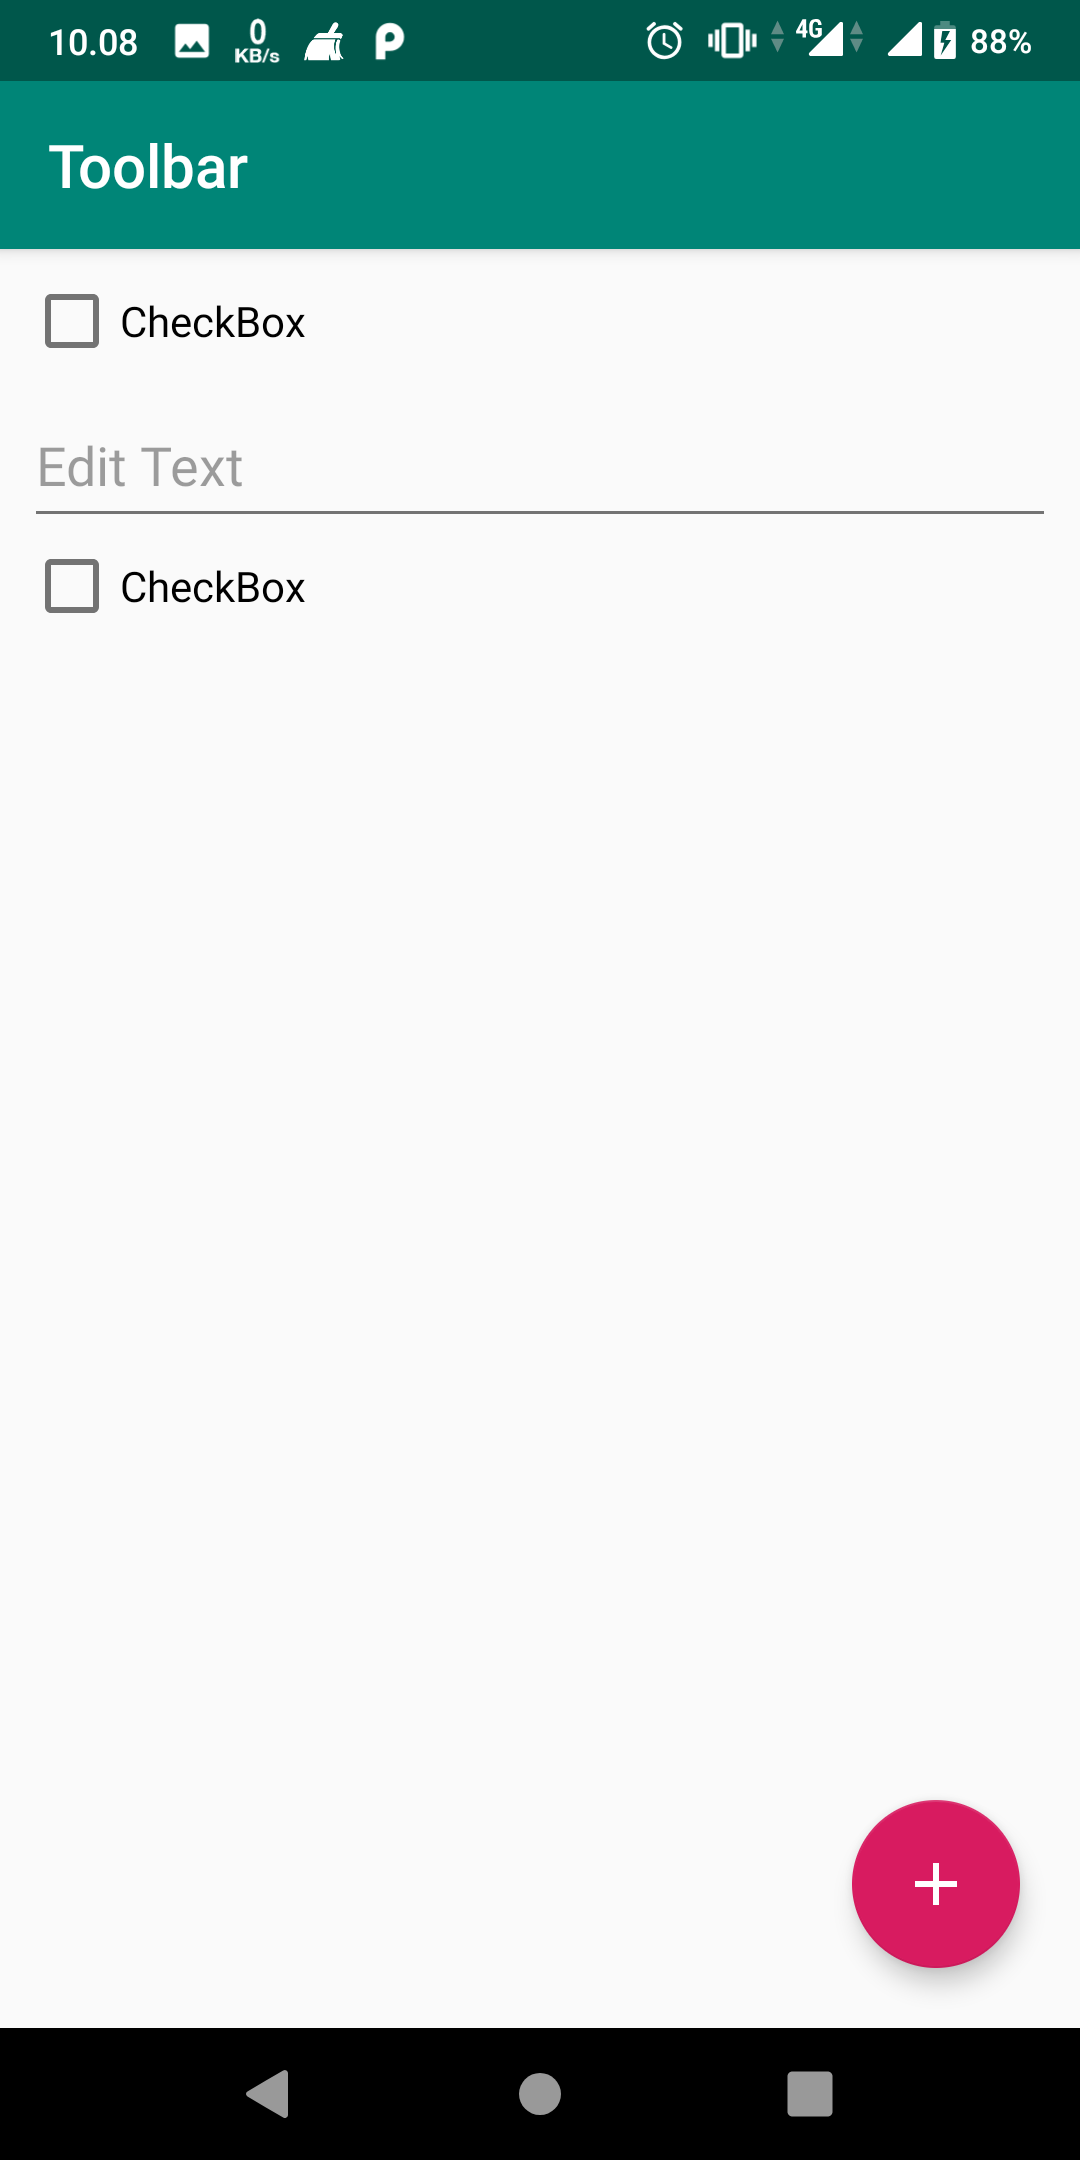checkBox: (28, 273, 322, 366), (39, 551, 311, 625)
editText: (19, 426, 1057, 534)
floatingButton: (844, 1796, 1022, 1977)
toolbar: (3, 73, 1079, 249)
